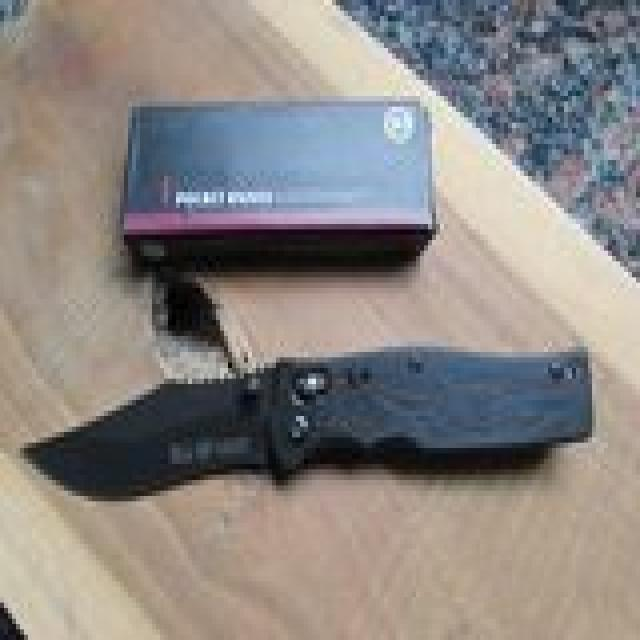Knife: (9, 339, 607, 498)
